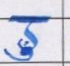u_matra: (4, 47, 36, 61)
